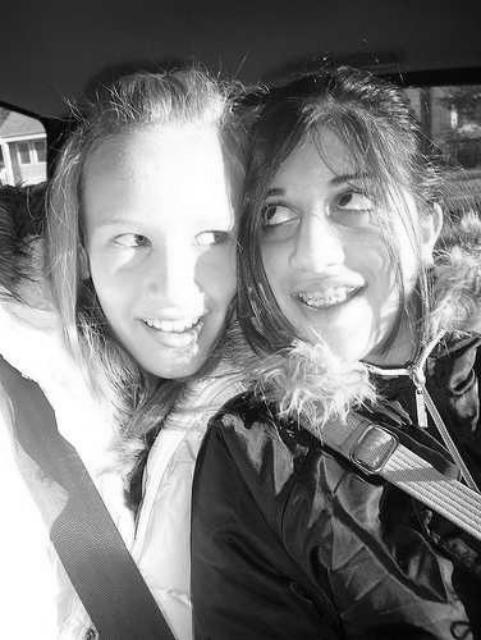SafeDriving: (99, 214, 162, 263), (251, 186, 306, 236), (326, 176, 384, 223)
Seatbelt: (0, 346, 180, 640)
